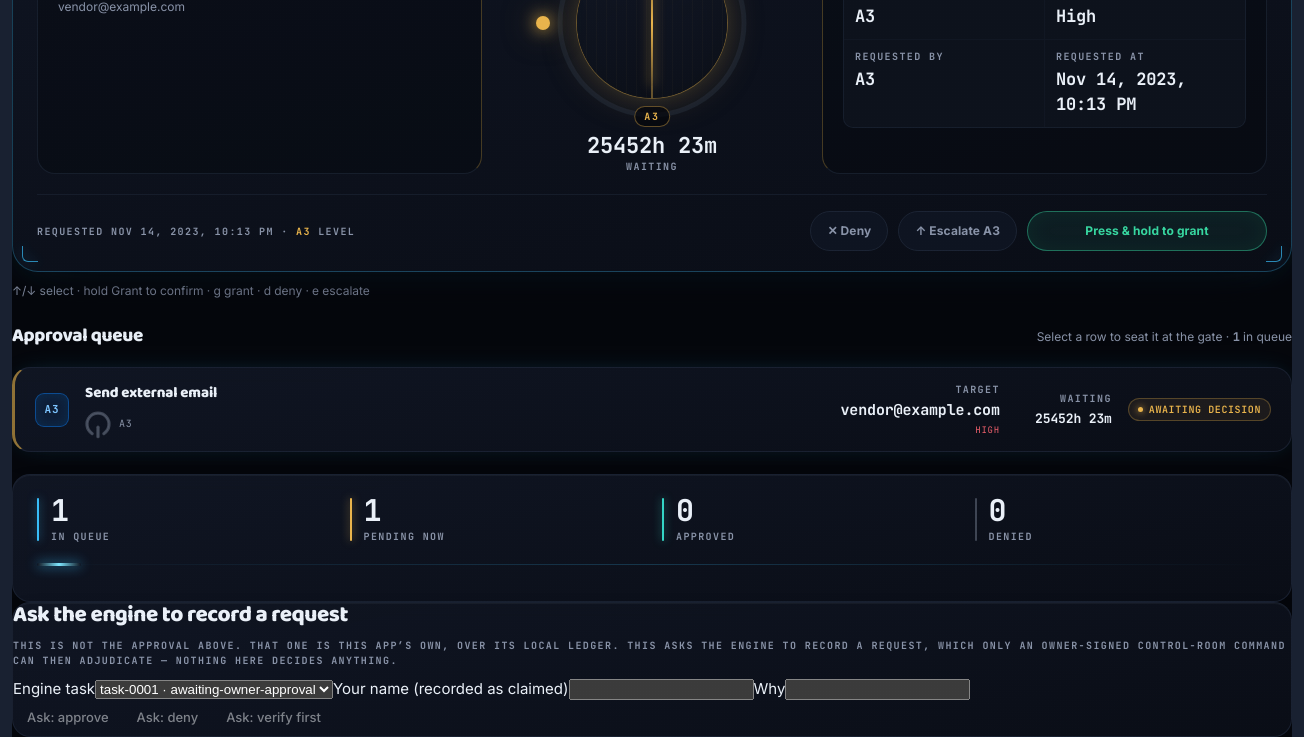
Test: the engine REQUEST section › DOES NOT render an outcome that claims a decision
(page scrolled)
Expected: the dropdown labelled "Engine task" is shown, [95,680,333,699]
Type "gev" into the field labelled "Your name (recorded as claimed)" at (661,689), box [568,679,754,700]
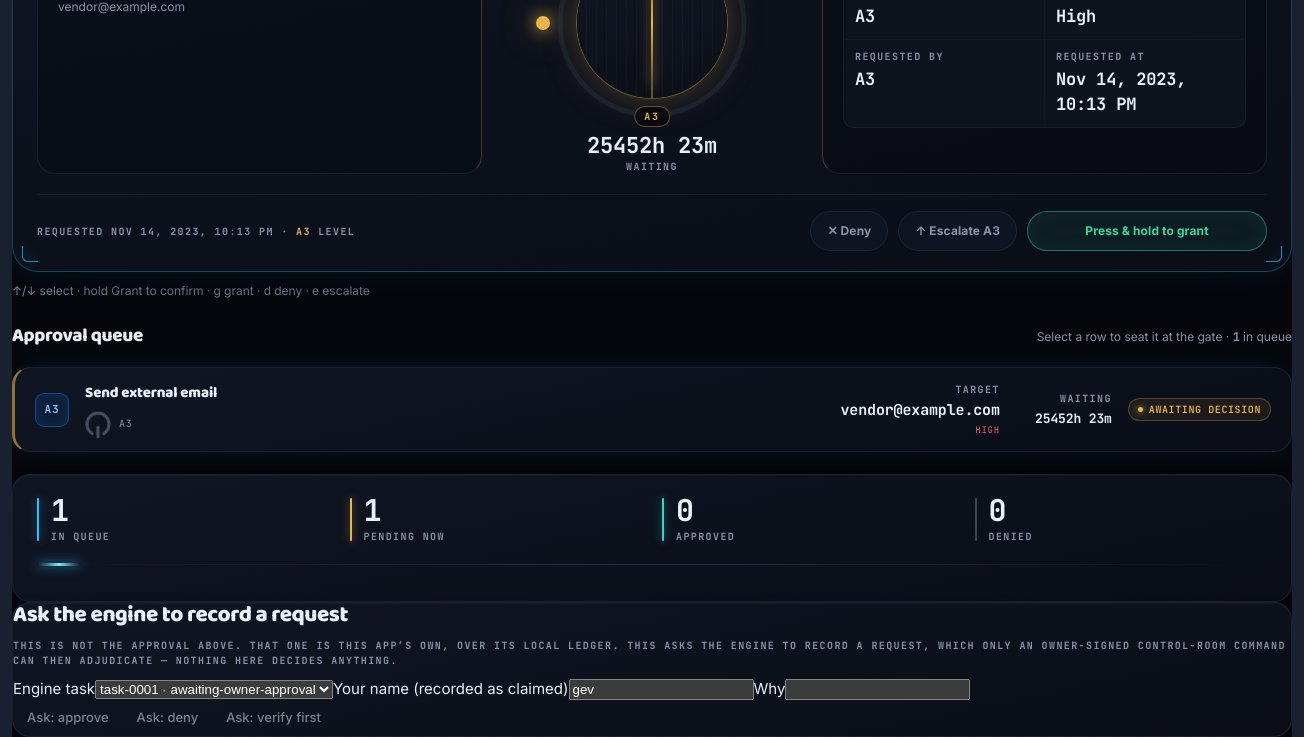
Type "the owner should see this" into the field labelled "Why" at (878,689), box [785,679,970,700]
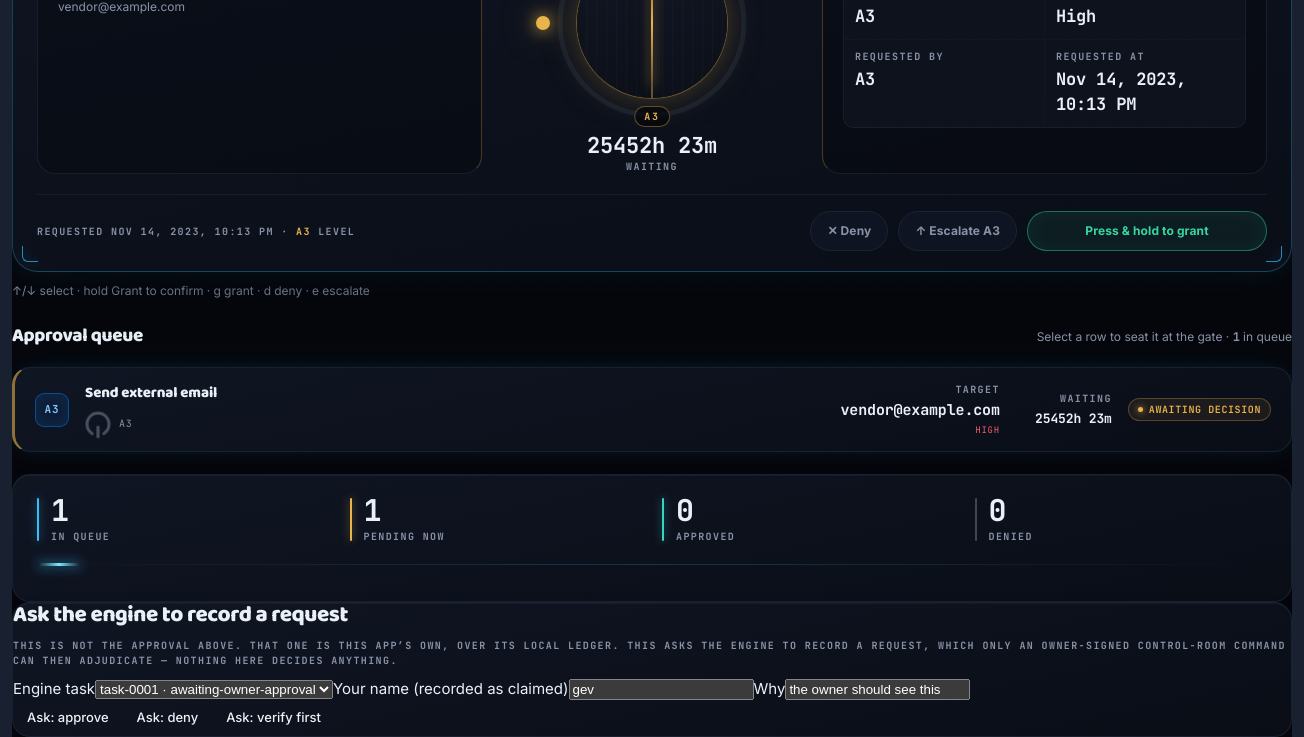
Click the button "Ask: approve" at (68,718), box [13,700,122,736]
(page scrolled)
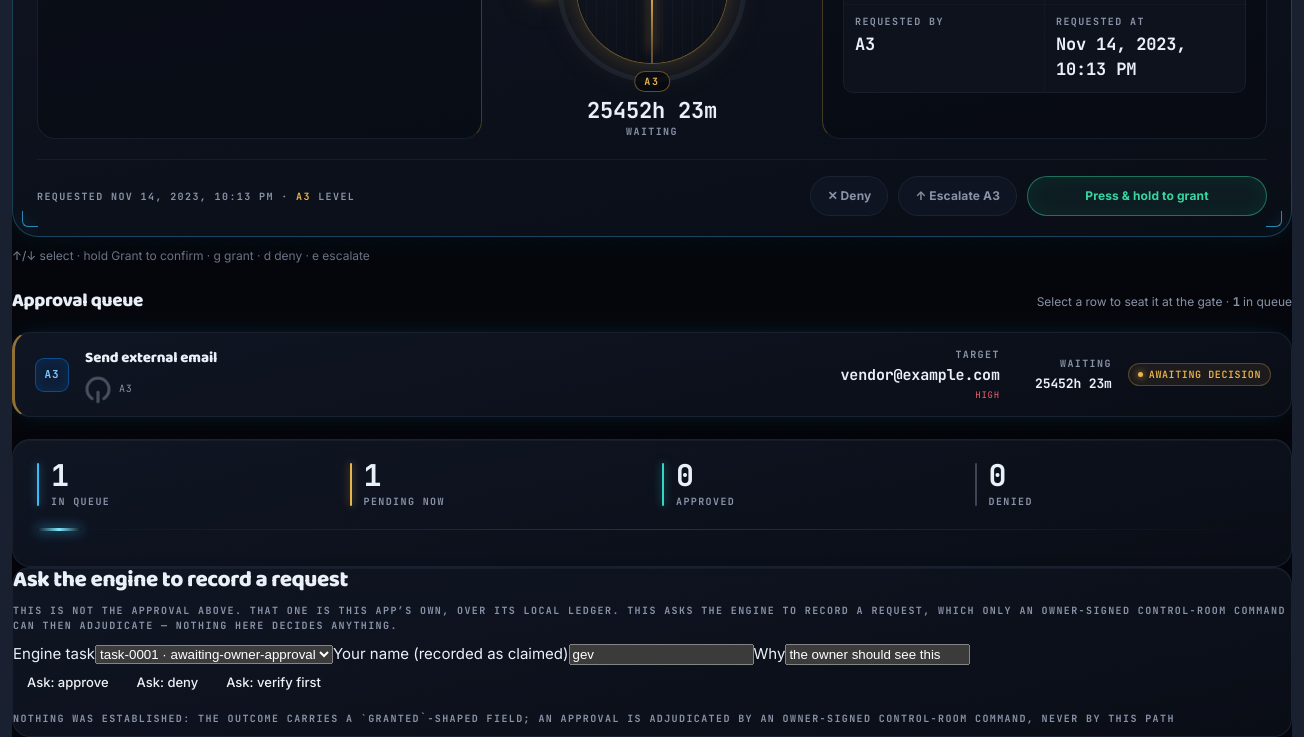
Now the text "Nothing was established" is shown, box [13,712,1175,725]
